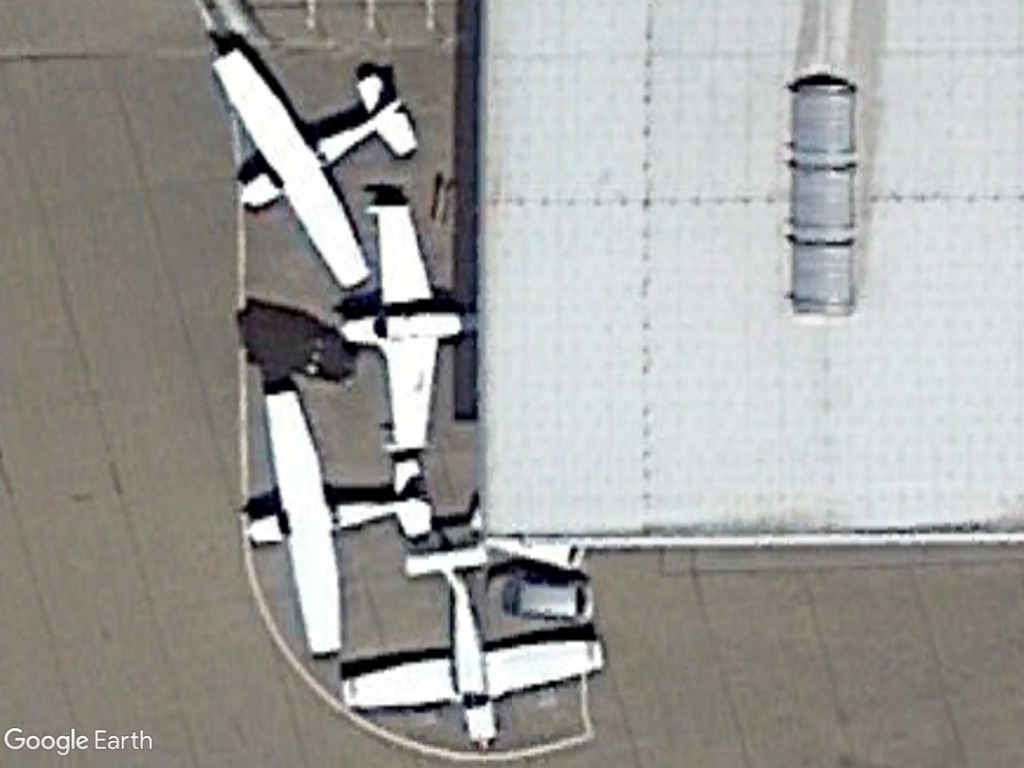trainer: (325, 536, 619, 750), (236, 382, 439, 681), (203, 39, 418, 299)
